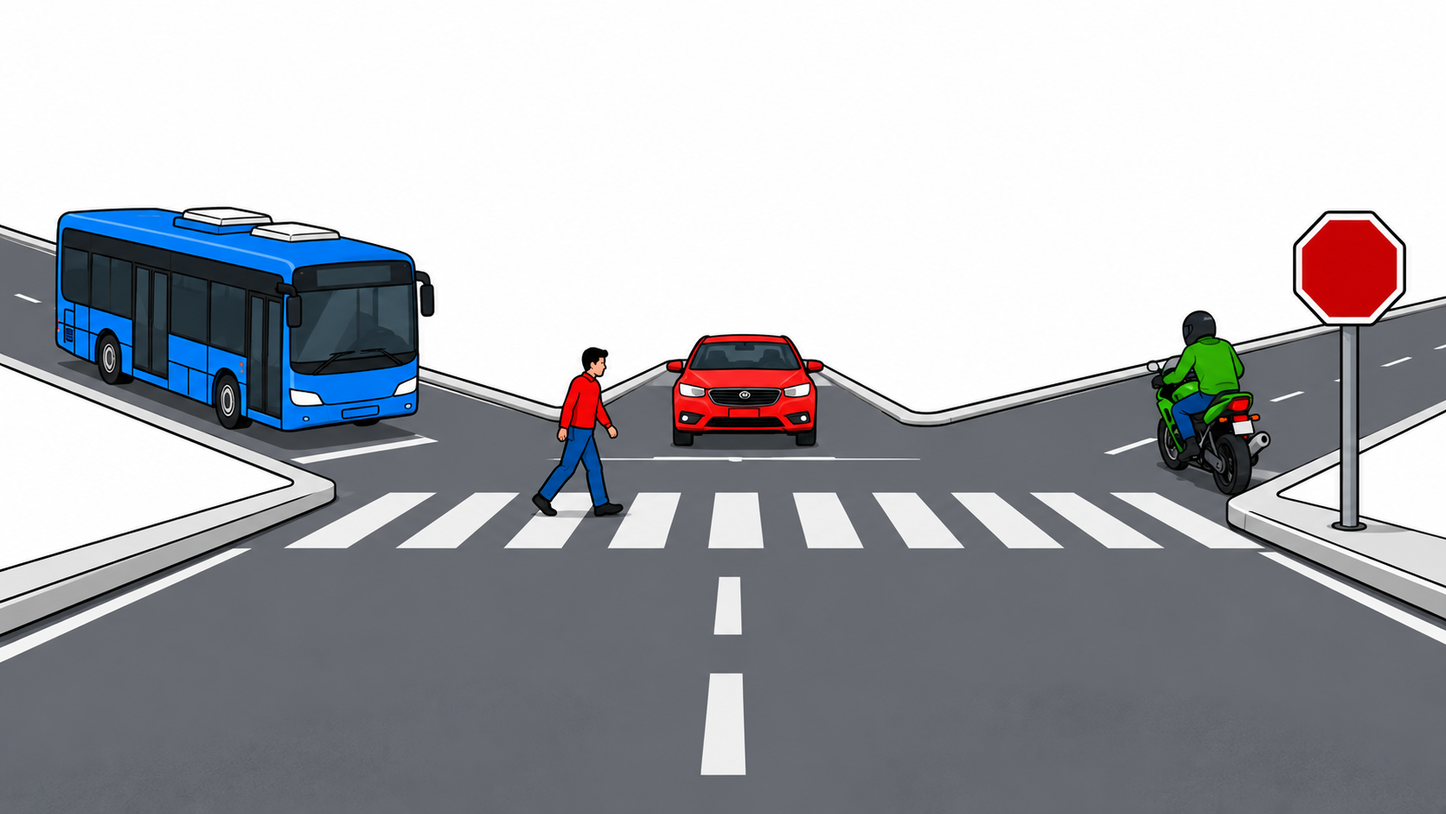bus: (52, 206, 480, 446)
car: (609, 331, 797, 458)
person: (374, 356, 501, 574)
traffic_light: (1025, 59, 1097, 200)
truck: (829, 234, 1071, 507)
zebra_crossing: (0, 529, 1445, 613)
